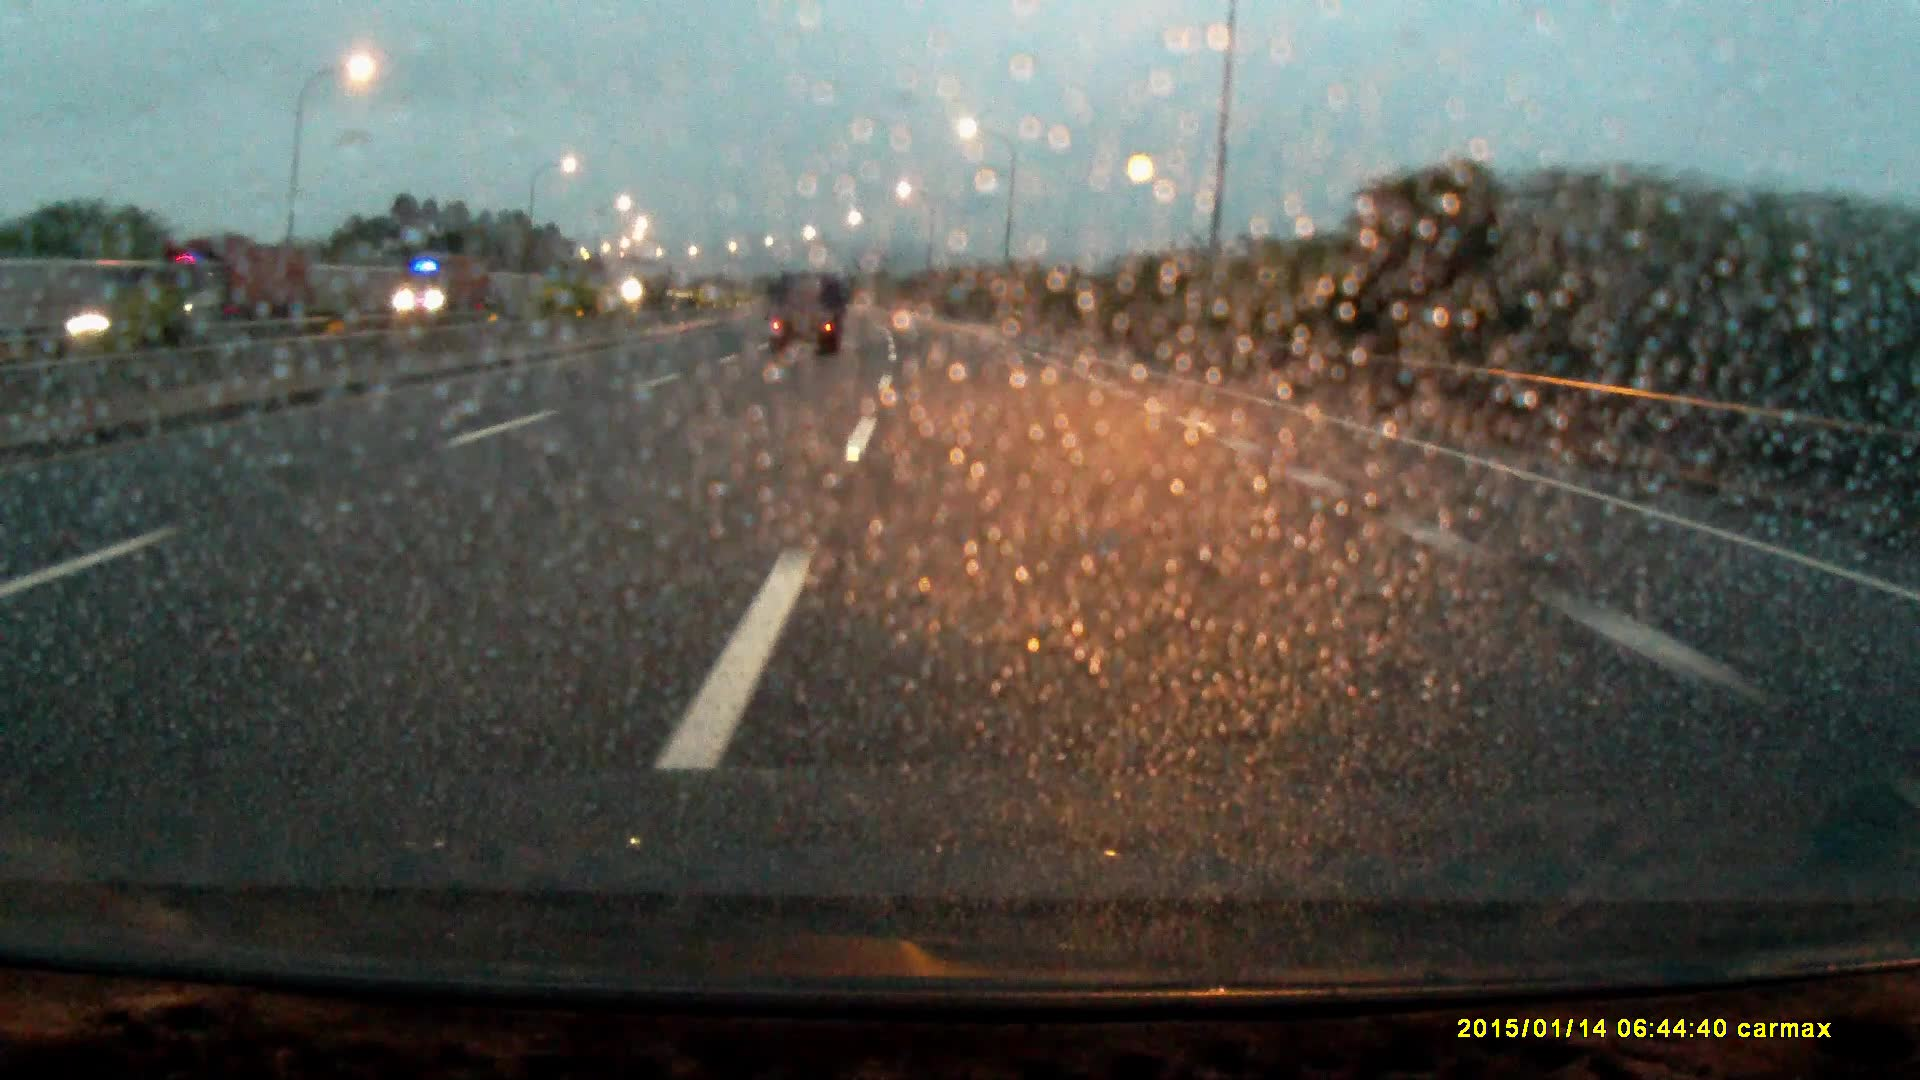vehicle: (127, 240, 306, 334), (765, 273, 844, 361), (390, 252, 487, 318)
